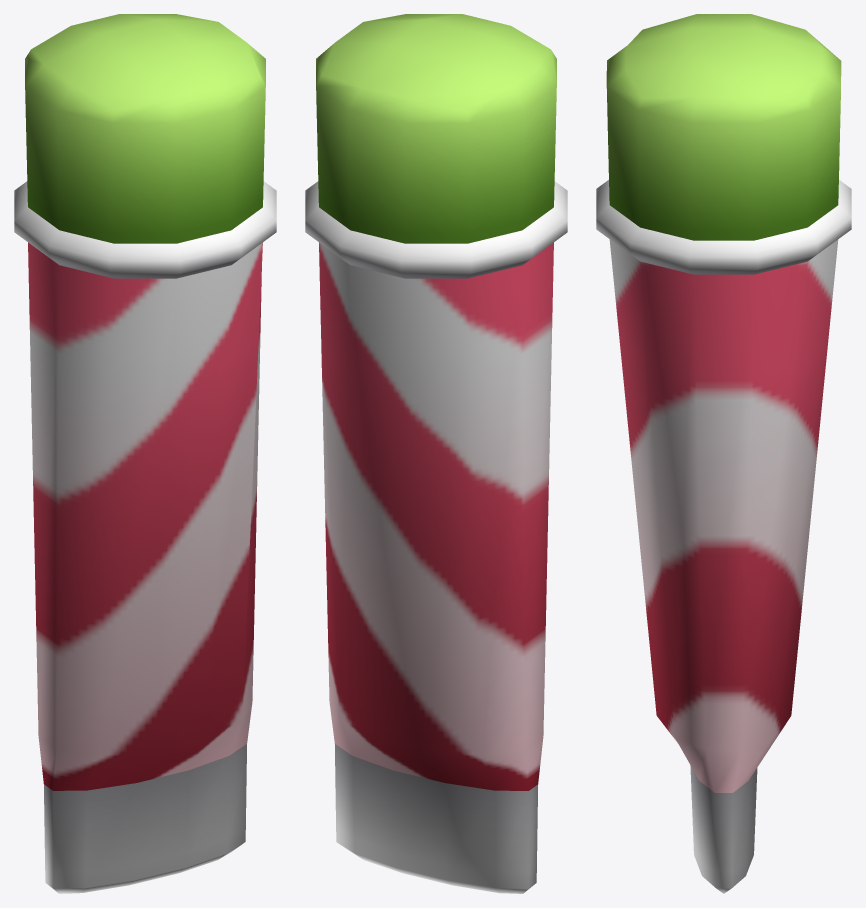
The model's file is m_PushPop05.fbx.
3 renders of one model, left to right at view 1: azimuth 30°, elevation 25°; view 2: azimuth 150°, elevation 25°; view 3: azimuth 270°, elevation 25°, orthographic. The views are drawn at different scales.
Parts seen in each view (by area): view 1: m_PushPop05; view 2: m_PushPop05; view 3: m_PushPop05.
Part boxes in pixels (x1,y1,x2,y2): m_PushPop05: [14, 14, 276, 893]; m_PushPop05: [305, 14, 567, 893]; m_PushPop05: [596, 14, 851, 893].
Size of the model in its own units: 6.5 by 22.79 by 6.5.
